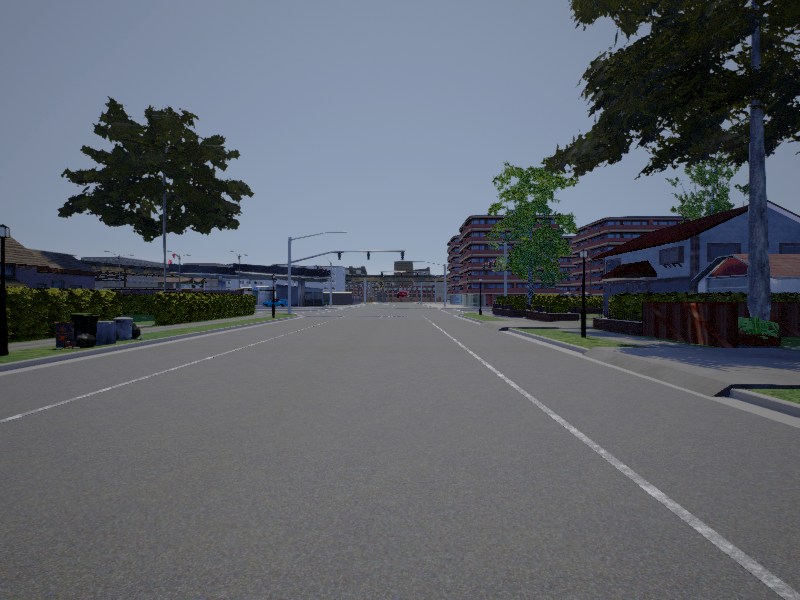Attacker: (396, 289, 411, 299)
